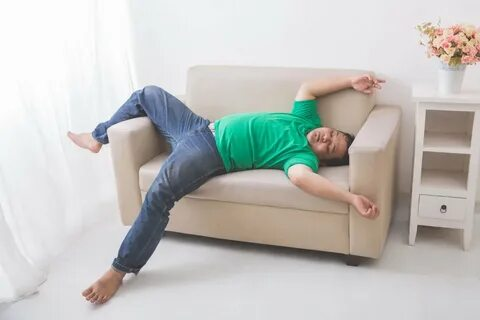sleep: (150, 104, 357, 176)
